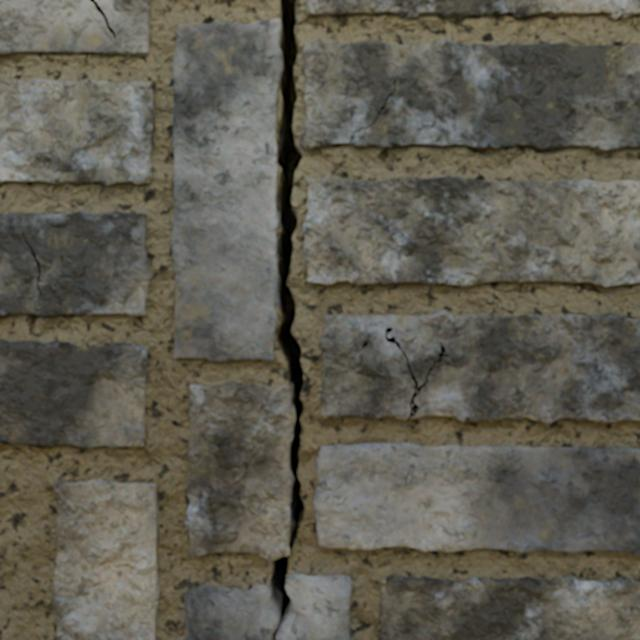broken_brick: (184, 584, 278, 639), (276, 574, 351, 639)
crack: (172, 0, 639, 639), (302, 177, 639, 287), (319, 310, 639, 423), (314, 443, 639, 554), (52, 478, 159, 639), (378, 575, 639, 639), (0, 78, 154, 186), (0, 211, 151, 318), (0, 340, 147, 448), (0, 0, 150, 56), (306, 0, 639, 20)
